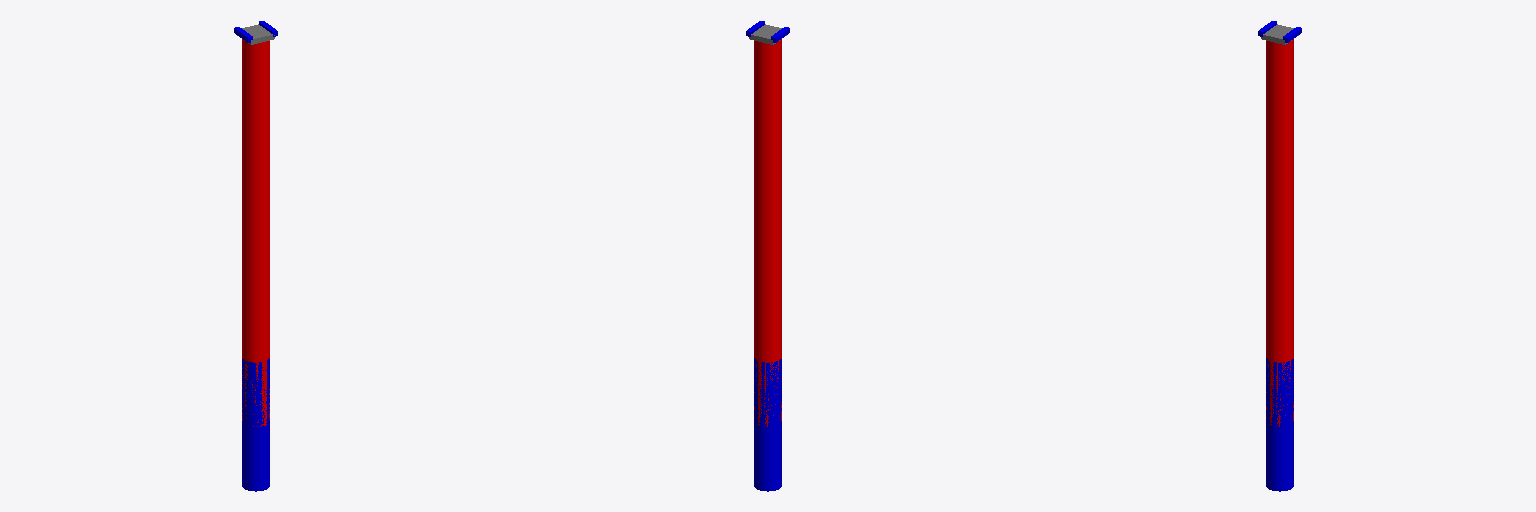
robot.urdf — my_robot_arm:
<?xml version="1.0" ?>
<!-- =================================================================================== -->
<!-- |    This document was autogenerated by xacro from src/sim_mdrs/urdf/arm.urdf.xacro | -->
<!-- |    EDITING THIS FILE BY HAND IS NOT RECOMMENDED                                 | -->
<!-- =================================================================================== -->
<robot name="my_robot_arm">
  <material name="blue">
    <color rgba="0.0 0.0 1.0 1.0"/>
  </material>
  <material name="red">
    <color rgba="1.0 0.0 0.0 1.0"/>
  </material>
  <material name="gray">
    <color rgba="0.5 0.5 0.5 1.0"/>
  </material>
  <!-- Base Link -->
  <link name="base_link">
    <visual>
      <geometry>
        <cylinder length="0.5" radius="0.05"/>
      </geometry>
      <material name="blue"/>
    </visual>
  </link>
  <!-- Joint 1 -->
  <joint name="joint1" type="revolute">
    <parent link="base_link"/>
    <child link="first_link"/>
    <origin rpy="0 0 0" xyz="0 0 0.25"/>
    <axis xyz="0 0 1"/>
    <limit effort="10" lower="-1.57" upper="1.57" velocity="1"/>
  </joint>
  <!-- Arm Link -->
  <link name="first_link">
    <visual>
      <geometry>
        <cylinder length="0.5" radius="0.05"/>
      </geometry>
      <material name="red"/>
    </visual>
  </link>
  <joint name="joint2" type="revolute">
    <parent link="first_link"/>
    <child link="second_link"/>
    <origin rpy="0 0 0" xyz="0 0 0.25"/>
    <axis xyz="0 0 1"/>
    <limit effort="10" lower="-1.57" upper="1.57" velocity="1"/>
  </joint>
  <link name="second_link">
    <visual>
      <geometry>
        <cylinder length="0.5" radius="0.05"/>
      </geometry>
      <material name="red"/>
    </visual>
  </link>
  <joint name="joint3" type="revolute">
    <parent link="second_link"/>
    <child link="third_link"/>
    <origin rpy="0 0 0" xyz="0 0 0.25"/>
    <axis xyz="0 0 1"/>
    <limit effort="10" lower="-1.57" upper="1.57" velocity="1"/>
  </joint>
  <link name="third_link">
    <visual>
      <geometry>
        <cylinder length="0.5" radius="0.05"/>
      </geometry>
      <material name="red"/>
    </visual>
  </link>
  <joint name="joint4" type="revolute">
    <parent link="third_link"/>
    <child link="arm_link"/>
    <origin rpy="0 0 0" xyz="0 0 0.25"/>
    <axis xyz="0 0 1"/>
    <limit effort="10" lower="-1.57" upper="1.57" velocity="1"/>
  </joint>
  <link name="arm_link">
    <visual>
      <geometry>
        <cylinder length="1.0" radius="0.05"/>
      </geometry>
      <material name="red"/>
    </visual>
  </link>
  <!-- Gripper Base -->
  <link name="gripper_base">
    <visual>
      <geometry>
        <box size="0.1 0.1 0.02"/>
      </geometry>
      <material name="gray"/>
    </visual>
  </link>
  <joint name="gripper_joint" type="fixed">
    <parent link="arm_link"/>
    <child link="gripper_base"/>
    <origin rpy="0 0 0" xyz="0 0 0.5"/>
  </joint>
  <!-- Left Gripper Finger -->
  <link name="left_finger">
    <visual>
      <geometry>
        <box size="0.02 0.1 0.02"/>
      </geometry>
      <material name="blue"/>
    </visual>
  </link>
  <joint name="left_finger_joint" type="prismatic">
    <parent link="gripper_base"/>
    <child link="left_finger"/>
    <origin rpy="0 0 0" xyz="0.05 0 0.01"/>
    <axis xyz="0 1 0"/>
    <limit effort="10" lower="0" upper="0.04" velocity="0.05"/>
  </joint>
  <!-- Right Gripper Finger -->
  <link name="right_finger">
    <visual>
      <geometry>
        <box size="0.02 0.1 0.02"/>
      </geometry>
      <material name="blue"/>
    </visual>
  </link>
  <joint name="right_finger_joint" type="prismatic">
    <parent link="gripper_base"/>
    <child link="right_finger"/>
    <origin rpy="0 0 0" xyz="-0.05 0 0.01"/>
    <axis xyz="0 -1 0"/>
    <limit effort="10" lower="0" upper="0.04" velocity="0.05"/>
  </joint>
</robot>

--- What the picture shows (computed from the rendered views, not written in the file) ---
Views: 3 orthographic renders of the robot side by side, from view 1: azimuth 30°, elevation 25°; view 2: azimuth 150°, elevation 25°; view 3: azimuth 330°, elevation 25°.
Robot: my_robot_arm — 8 links, 7 joints (4 revolute, 2 prismatic, 1 fixed); root link base_link; default pose: all joints at 0.
Links seen in each view (by area): view 1: arm_link, base_link, third_link, first_link, second_link; view 2: arm_link, base_link, third_link, first_link, second_link; view 3: arm_link, base_link, third_link, first_link, second_link.
Boxes of the visible links, x1=… form: arm_link: x1=242, y1=39, x2=269, y2=297; base_link: x1=242, y1=358, x2=269, y2=491; third_link: x1=242, y1=165, x2=269, y2=297; first_link: x1=242, y1=295, x2=269, y2=426; second_link: x1=242, y1=230, x2=269, y2=362; arm_link: x1=754, y1=39, x2=781, y2=297; base_link: x1=754, y1=358, x2=781, y2=491; third_link: x1=754, y1=165, x2=781, y2=297; first_link: x1=754, y1=295, x2=781, y2=426; second_link: x1=754, y1=230, x2=781, y2=362; arm_link: x1=1266, y1=39, x2=1293, y2=297; base_link: x1=1266, y1=358, x2=1293, y2=491; third_link: x1=1266, y1=165, x2=1293, y2=297; first_link: x1=1266, y1=295, x2=1293, y2=426; second_link: x1=1266, y1=230, x2=1293, y2=362.
Bounding box of the posed robot: 0.12 × 0.1 × 1.77 m (x, y, z).
Geometry: primitives only (box / cylinder / sphere), no mesh files.